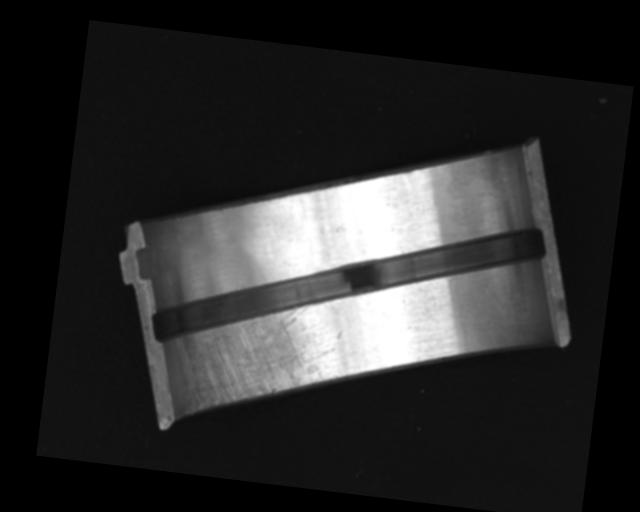gap: (149, 182, 549, 387)
scratch: (175, 289, 339, 427)
